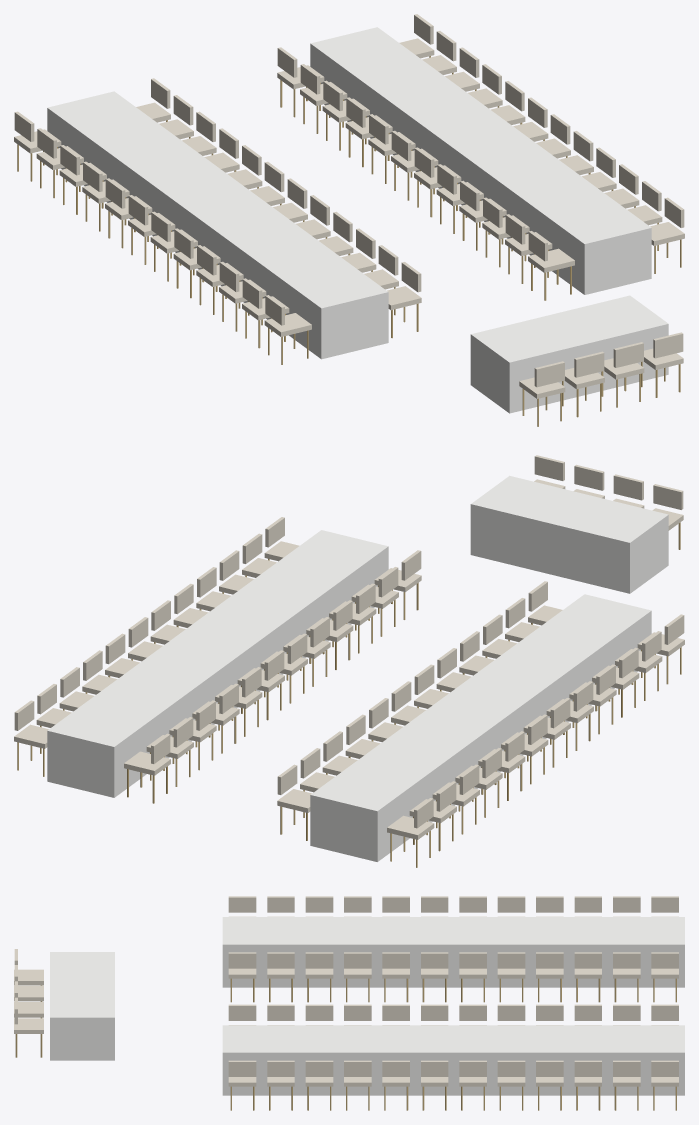
File: rect-parallel-7.glb
The picture shows the model from 3 angles, top to bottom: view 1: azimuth 30°, elevation 25°; view 2: azimuth 150°, elevation 25°; view 3: azimuth 270°, elevation 25°; orthographic projection. The views are drawn at different scales.
Bounding box in the file's own units: 6.14 × 0.85 × 10.48.
